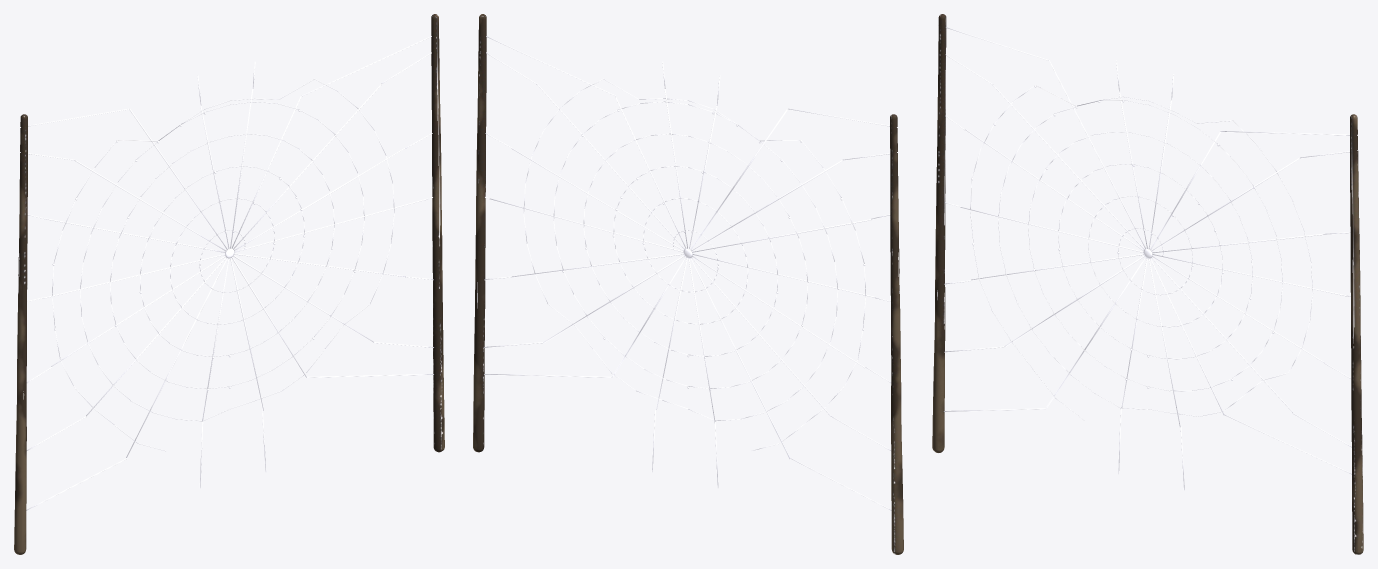
File: spider_web.glb
3 views of the same model, side by side, from view 1: azimuth 30°, elevation 25°; view 2: azimuth 150°, elevation 25°; view 3: azimuth 330°, elevation 25° (orthographic).
Parts seen in each view (by area): view 1: Spider_Web, Web_Stakes; view 2: Spider_Web, Web_Stakes; view 3: Spider_Web, Web_Stakes.
Boxes of the visible parts, x1,y1,x2,y2 form: Spider_Web: (20,33,439,510); Web_Stakes: (14,14,444,554); Spider_Web: (484,36,897,510); Web_Stakes: (473,14,903,554); Spider_Web: (938,25,1357,490); Web_Stakes: (932,14,1363,554).
Bounding box in the file's own units: 2.67 × 2.6 × 0.0638.
Materials: 1 (1 with a texture image).
